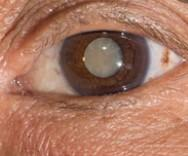eye: (62, 29, 151, 96)
